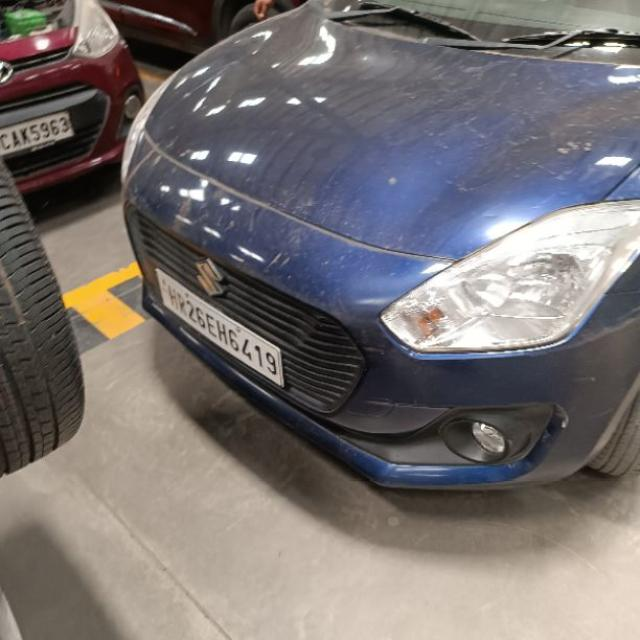license_plate: (153, 266, 284, 388), (0, 109, 74, 159)
